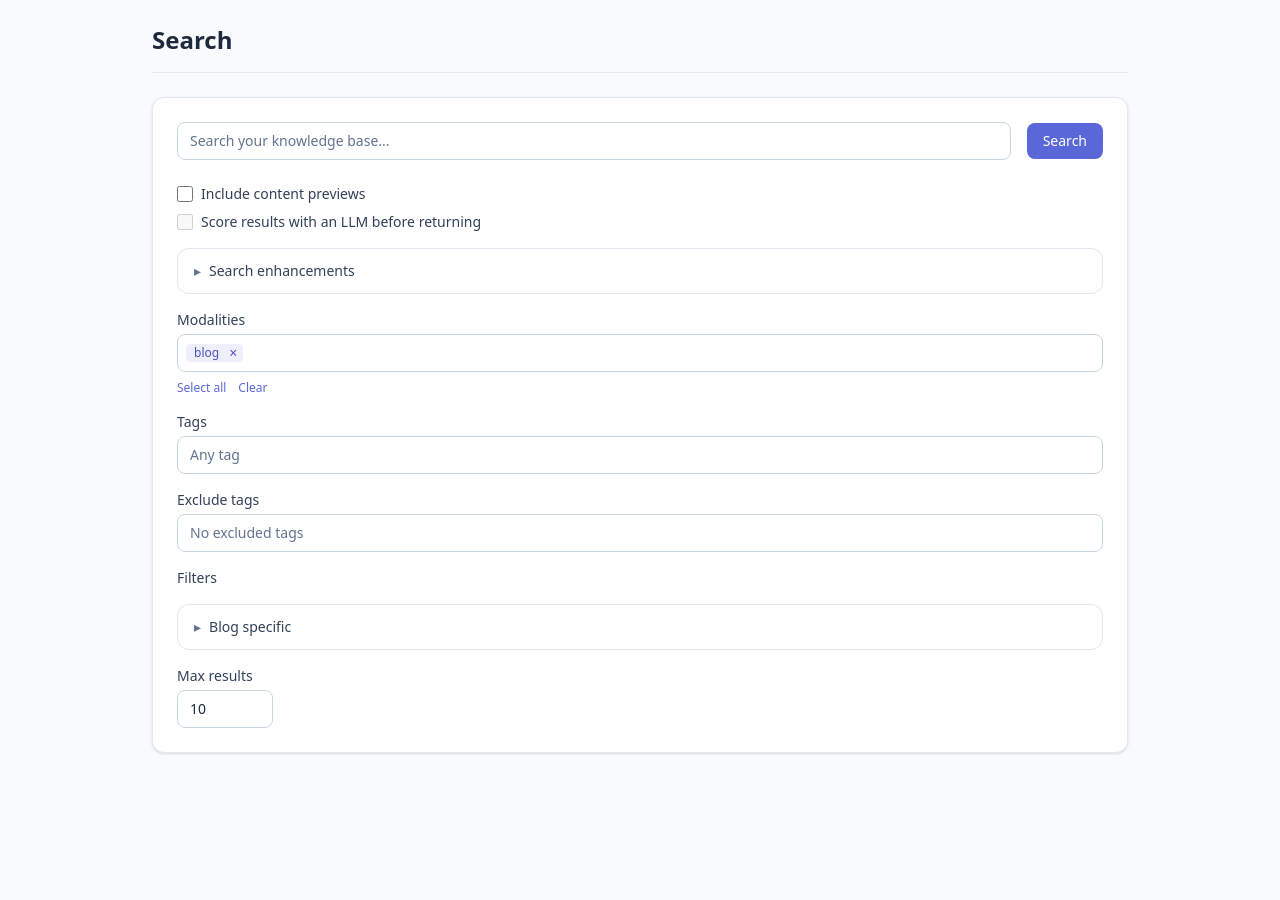
Test: Search › shows the empty state when a search returns nothing
Type "q" into the field with placeholder "Search your knowledge base..." at point(594, 141), box [177,122,1011,160]
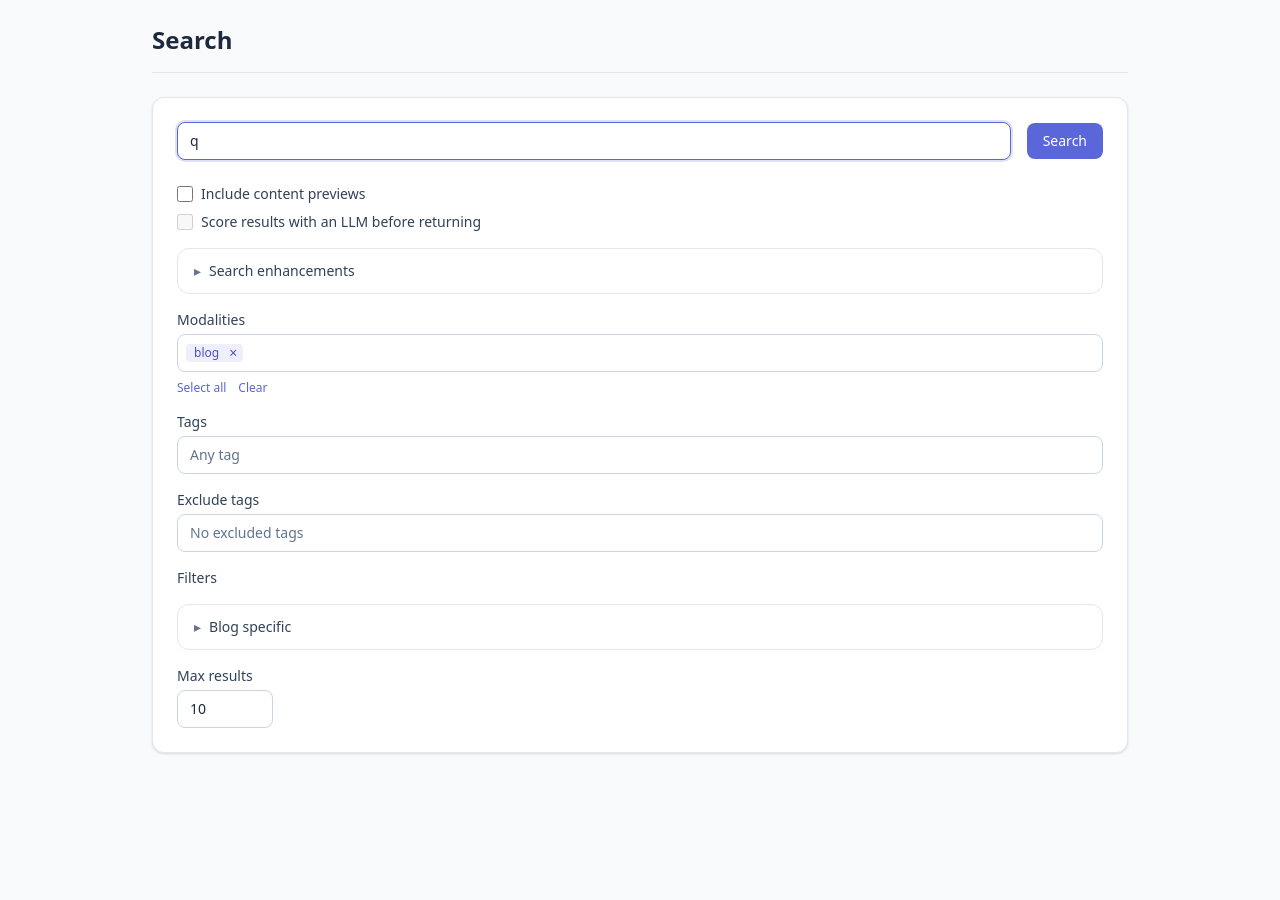
Click the button "Search" at point(1065, 141), box [1027,123,1103,159]
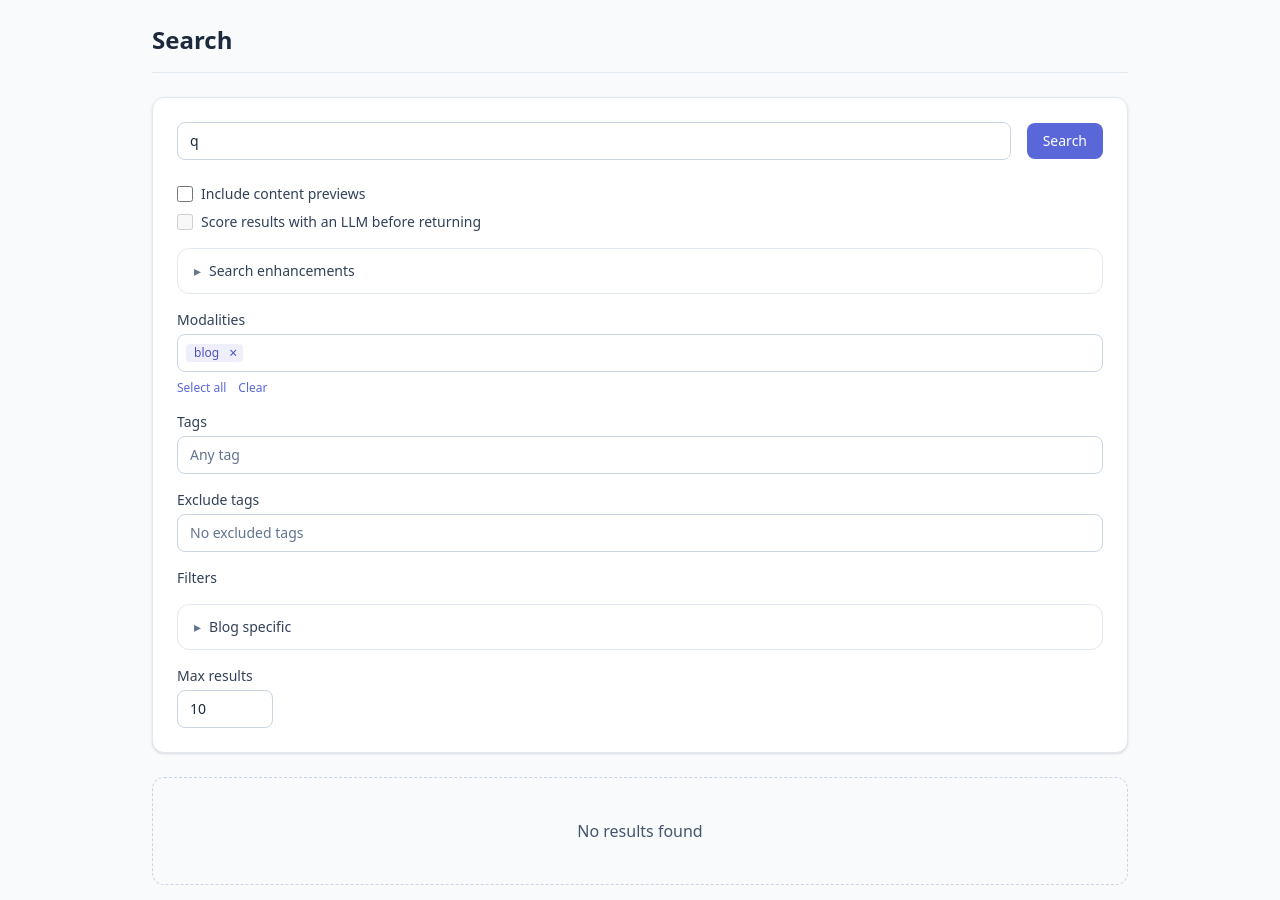
Now the text "No results found" is shown, box [577,820,703,842]
